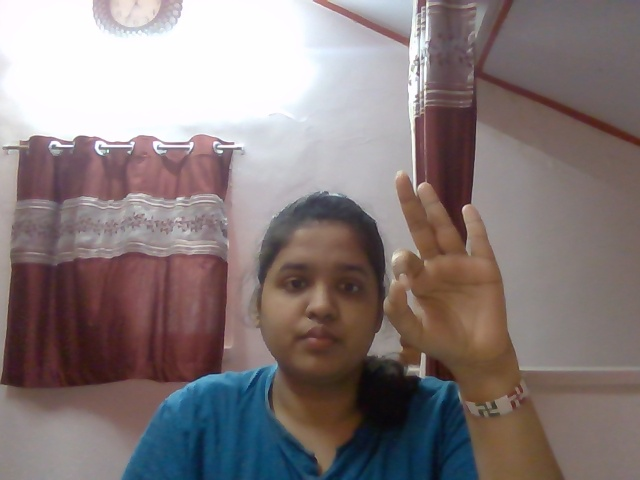f: (357, 163, 522, 368)
